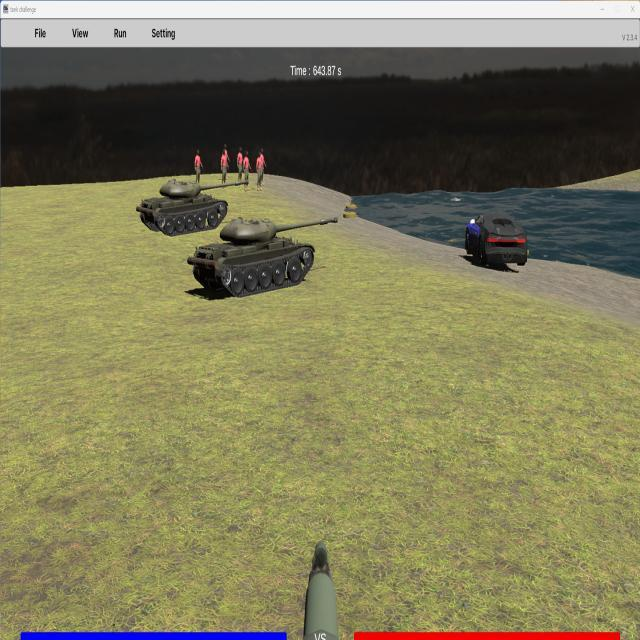Tank: (187, 215, 339, 299), (136, 178, 248, 237)
car: (464, 214, 529, 268)
